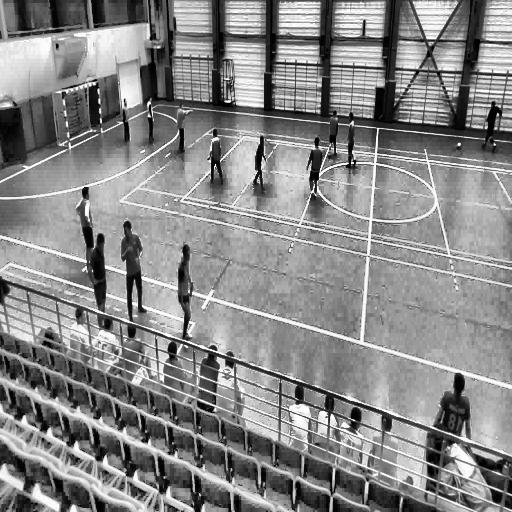ball: (454, 141, 462, 153)
player: (121, 220, 147, 321), (177, 243, 194, 342), (78, 184, 96, 272), (481, 100, 501, 153), (307, 136, 323, 202), (207, 127, 224, 186), (252, 134, 267, 192), (176, 101, 191, 155), (345, 112, 357, 169), (326, 108, 339, 159), (146, 94, 156, 146), (121, 97, 132, 144)
